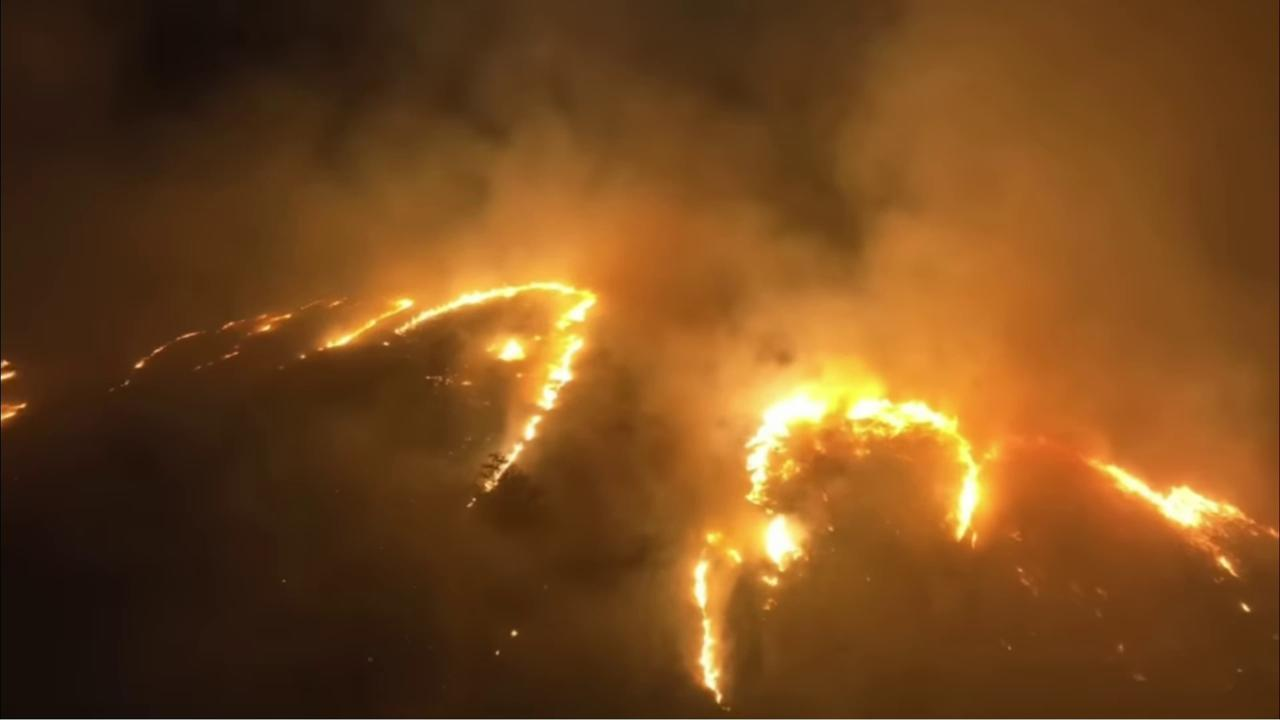fire: (747, 360, 1280, 714), (219, 279, 601, 498), (690, 527, 744, 710), (130, 329, 207, 371), (0, 397, 31, 425), (0, 355, 17, 386), (510, 628, 520, 638), (495, 650, 503, 657)
smoke: (0, 0, 1280, 720)
